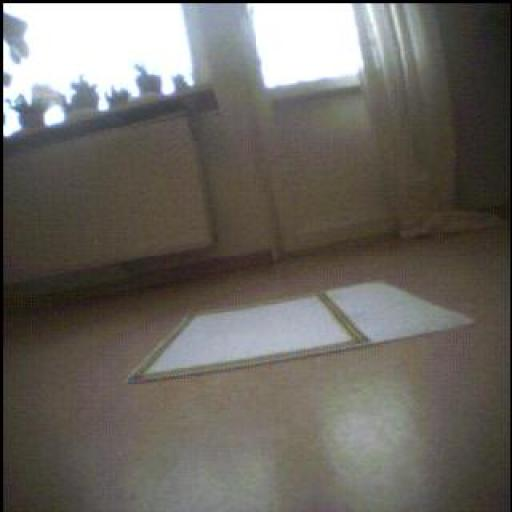Pad: (129, 283, 473, 384), (131, 297, 355, 383), (327, 283, 473, 344)
